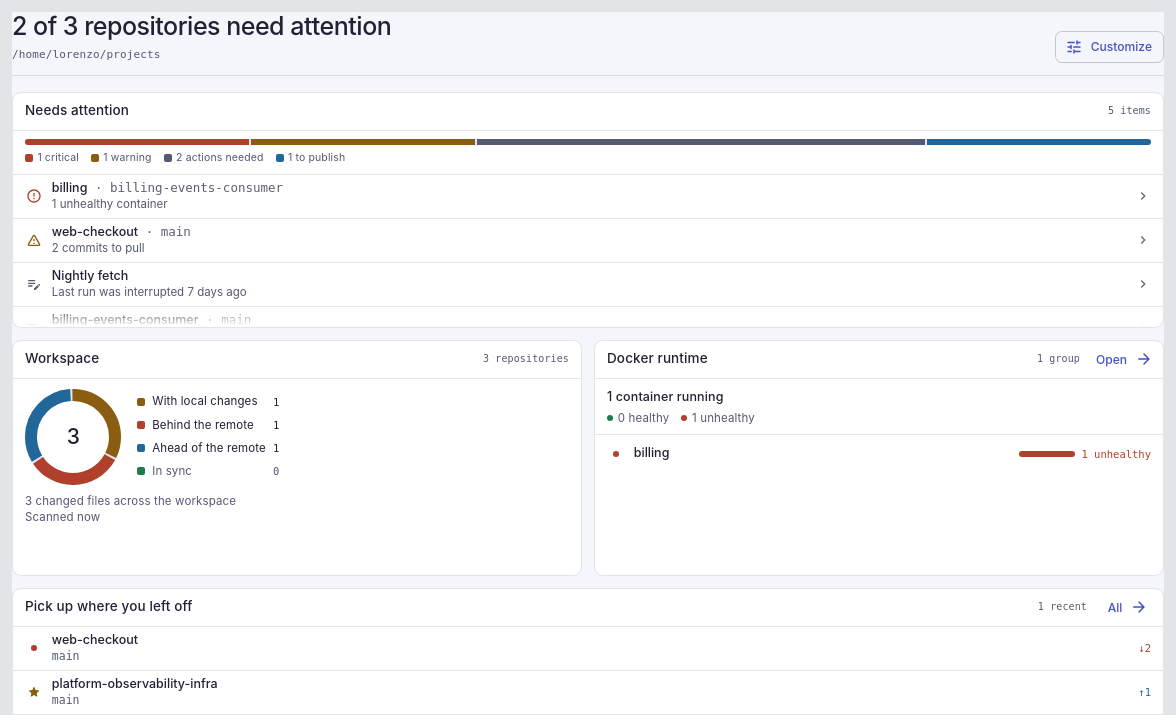
it: DashboardHome › swaps the workspace ring readout to the state under the pointer or focus
Expected: the text with test id "workspace-ring-readout" reads "3", [67,424,79,449]
Hover over the list item "With local changes 1": (208, 402) [133,392,284,412]
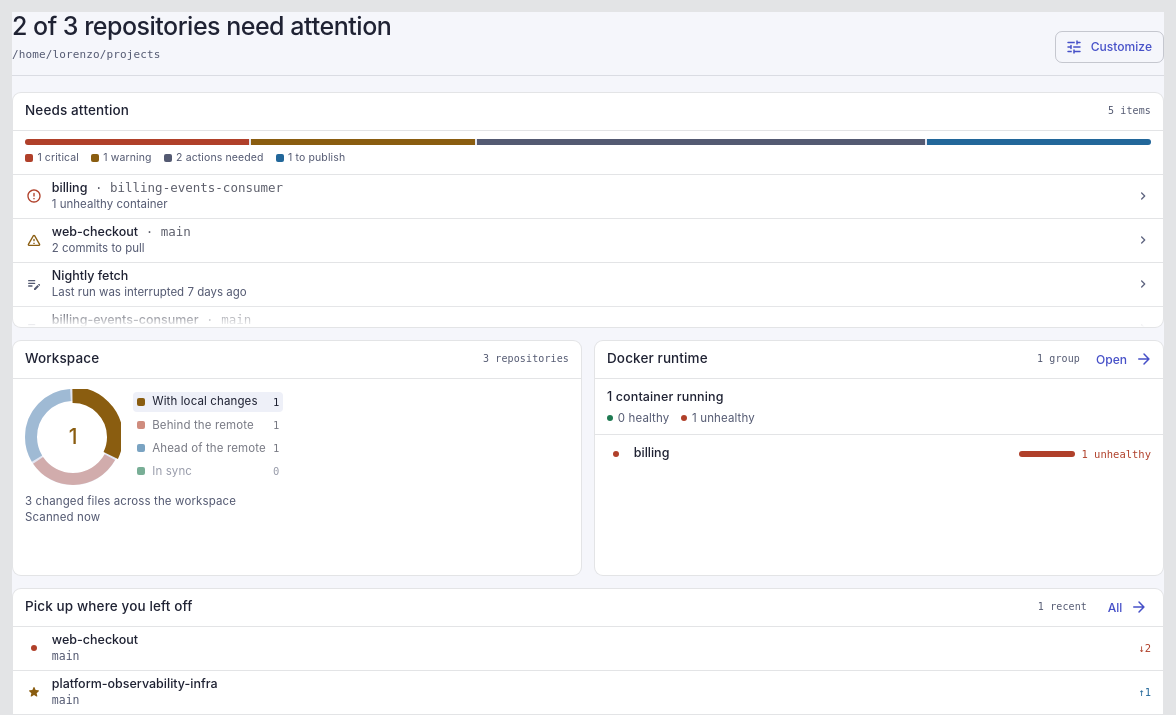
Now the text with test id "workspace-ring-readout" reads "1", box [69,424,77,449]
Move the pointer off the list item "With local changes 1", box [133,392,284,412]
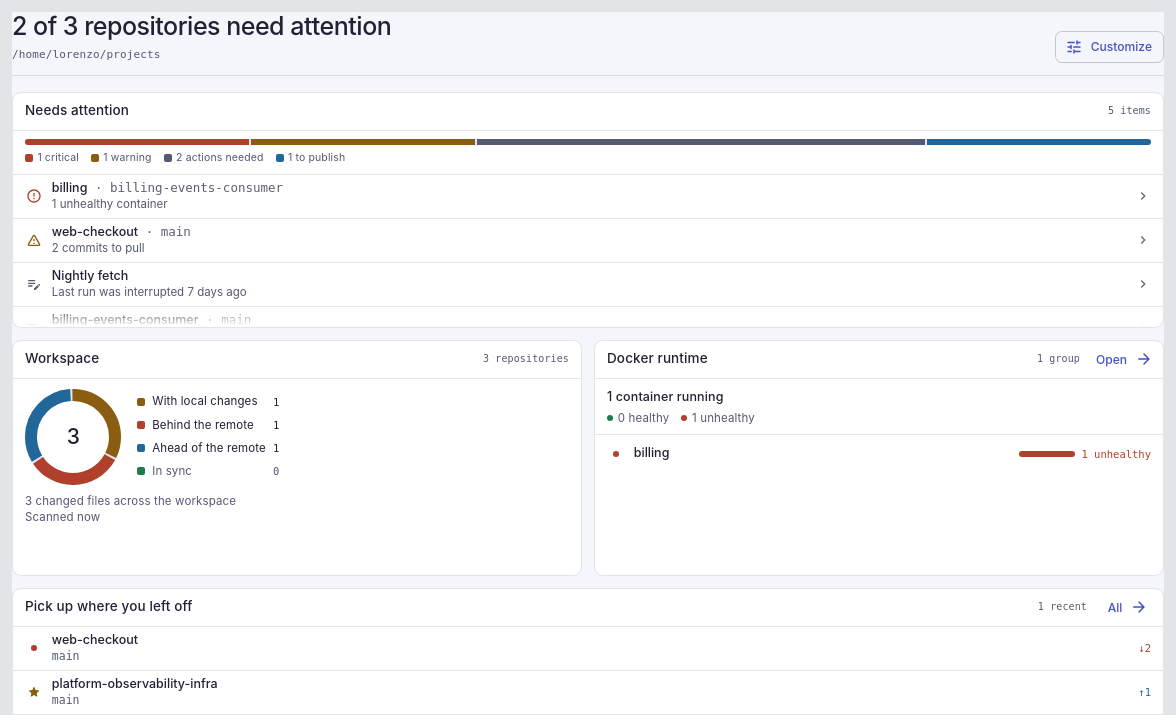
Now the text with test id "workspace-ring-readout" reads "3", box [67,424,79,449]
Focus the list item "Behind the remote 1": (208, 425) [133,415,284,435]
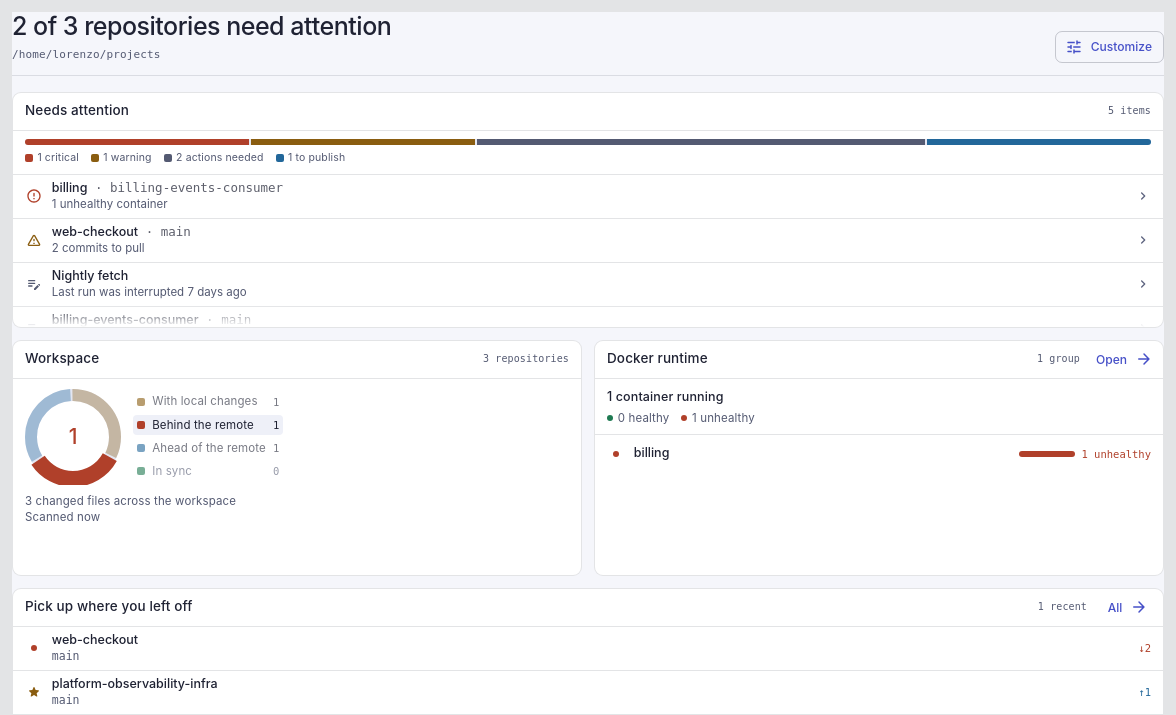
Now the text with test id "workspace-ring-readout" reads "1", box [69,424,77,449]
